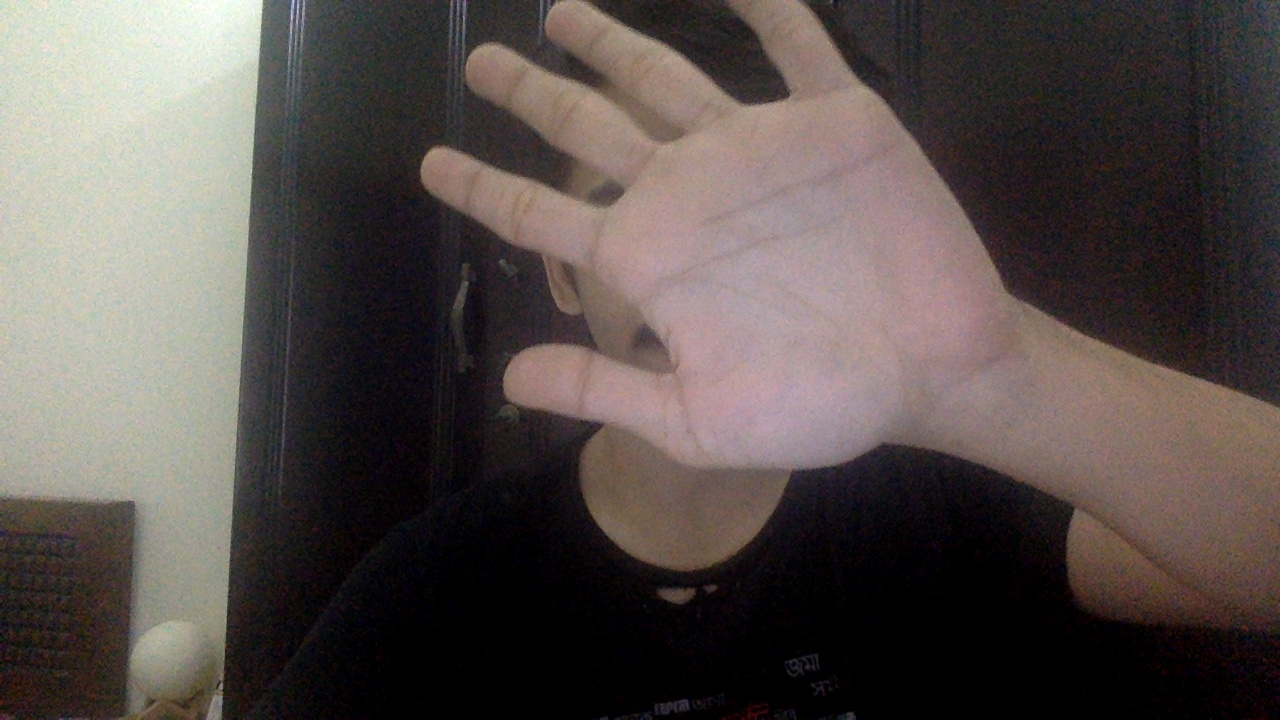stop: (419, 3, 1013, 471)
